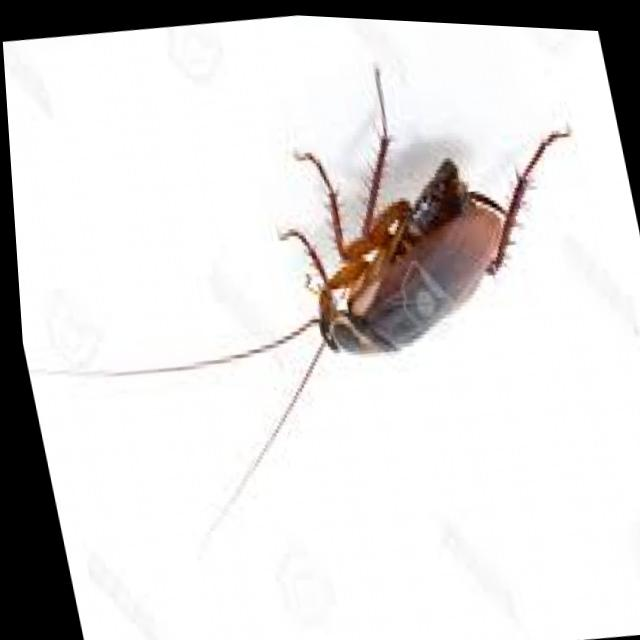Cockroach: (1, 11, 640, 605)
